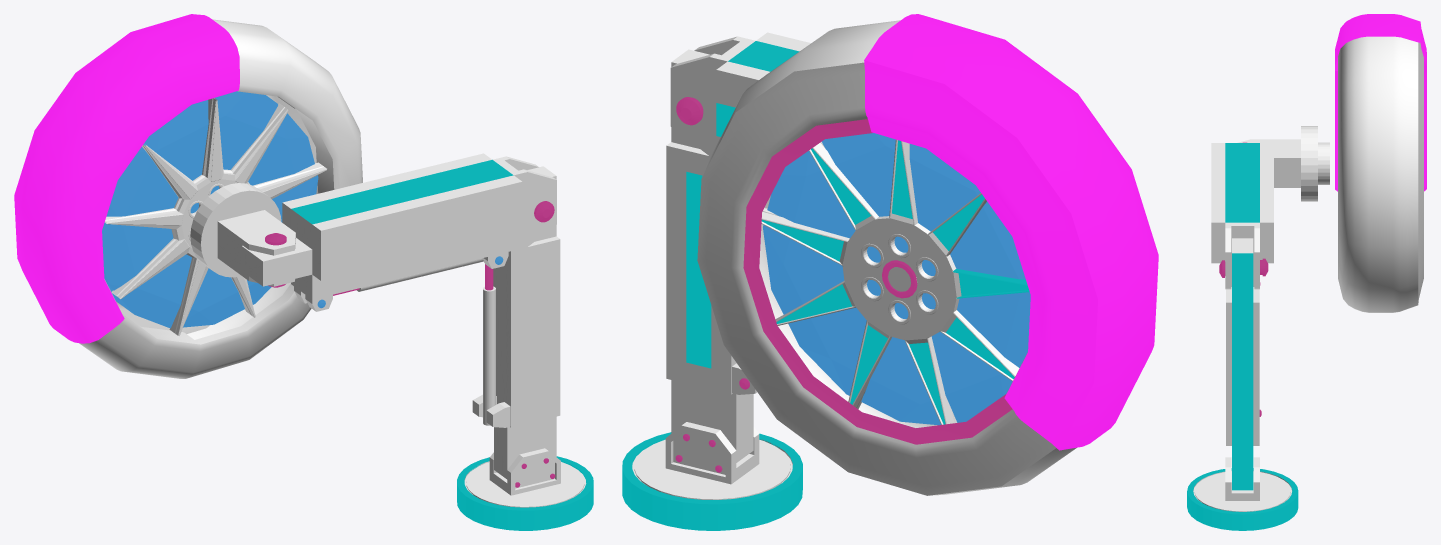
The picture shows the model from 3 angles, left to right: view 1: azimuth 30°, elevation 25°; view 2: azimuth 150°, elevation 25°; view 3: azimuth 270°, elevation 25°; orthographic projection. The views are drawn at different scales.
Parts seen in each view (by area): view 1: ban_2.008, Plane.013, ban_2.009, Cube.002, Cylinder.016, Plane.012, Circle.020, Circle.040, Plane.017, Cylinder.008, Circle.048, Plane.014; view 2: ban_2.008, ban_2.009, Cylinder.015, Cube.002, Plane.012, Plane.013, Circle.020, Circle.048; view 3: ban_2.008, Cube.002, Plane.013, Plane.012, Circle.020, Circle.040, Plane.017.
Boxes of the visible parts, <box> form: ban_2.008: <box>14,14,362,378</box>; Plane.013: <box>241,153,556,299</box>; ban_2.009: <box>102,91,318,328</box>; Cube.002: <box>493,166,560,479</box>; Cylinder.016: <box>104,98,326,335</box>; Plane.012: <box>464,448,586,507</box>; Circle.020: <box>457,456,593,530</box>; Circle.040: <box>190,183,281,277</box>; Plane.017: <box>217,210,295,286</box>; Cylinder.008: <box>483,286,495,425</box>; Circle.048: <box>265,201,555,487</box>; Plane.014: <box>472,394,510,427</box>; ban_2.008: <box>697,14,1158,495</box>; ban_2.009: <box>763,133,1030,425</box>; Cylinder.015: <box>761,139,1029,424</box>; Cube.002: <box>666,49,753,462</box>; Plane.012: <box>632,422,792,499</box>; Plane.013: <box>670,32,810,156</box>; Circle.020: <box>622,432,802,530</box>; Circle.048: <box>675,97,749,472</box>; ban_2.008: <box>1335,14,1426,312</box>; Cube.002: <box>1226,238,1259,490</box>; Plane.013: <box>1211,143,1273,289</box>; Plane.012: <box>1193,457,1292,511</box>; Circle.020: <box>1187,468,1298,530</box>; Circle.040: <box>1301,126,1329,201</box>; Plane.017: <box>1237,139,1300,187</box>.
Bounding box in the file's own units: 22.69 × 21.78 × 12.37.
